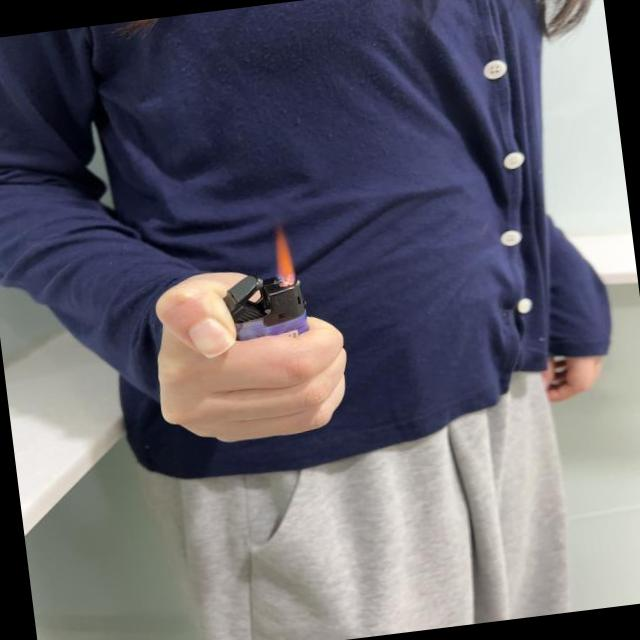Fire: (271, 226, 299, 288)
